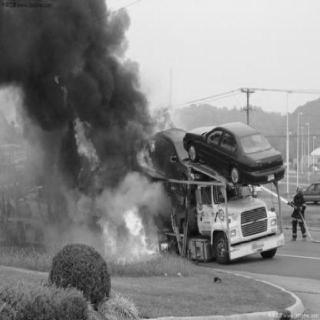Fire: (58, 74, 176, 264)
